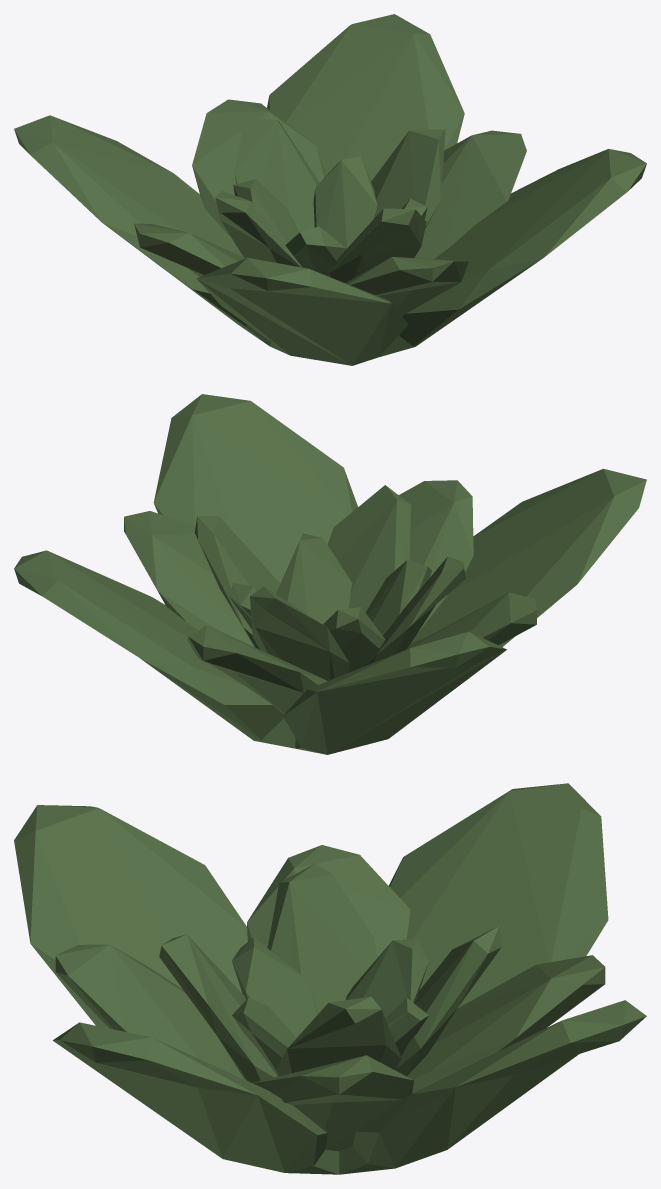
File: CactusFlower_1.lod2.glb
The picture shows the model from 3 angles, top to bottom: view 1: azimuth 30°, elevation 25°; view 2: azimuth 150°, elevation 25°; view 3: azimuth 270°, elevation 25°; orthographic projection. The views are drawn at different scales.
Parts seen in each view (by area): view 1: CactusFlower_1; view 2: CactusFlower_1; view 3: CactusFlower_1.
Part boxes in pixels (left/top/right/bottom): CactusFlower_1: left=14, top=14, right=646, bottom=365; CactusFlower_1: left=14, top=394, right=646, bottom=754; CactusFlower_1: left=14, top=783, right=646, bottom=1174.
Bounding box in the file's own units: 0.8819 × 0.3585 × 0.8698.
